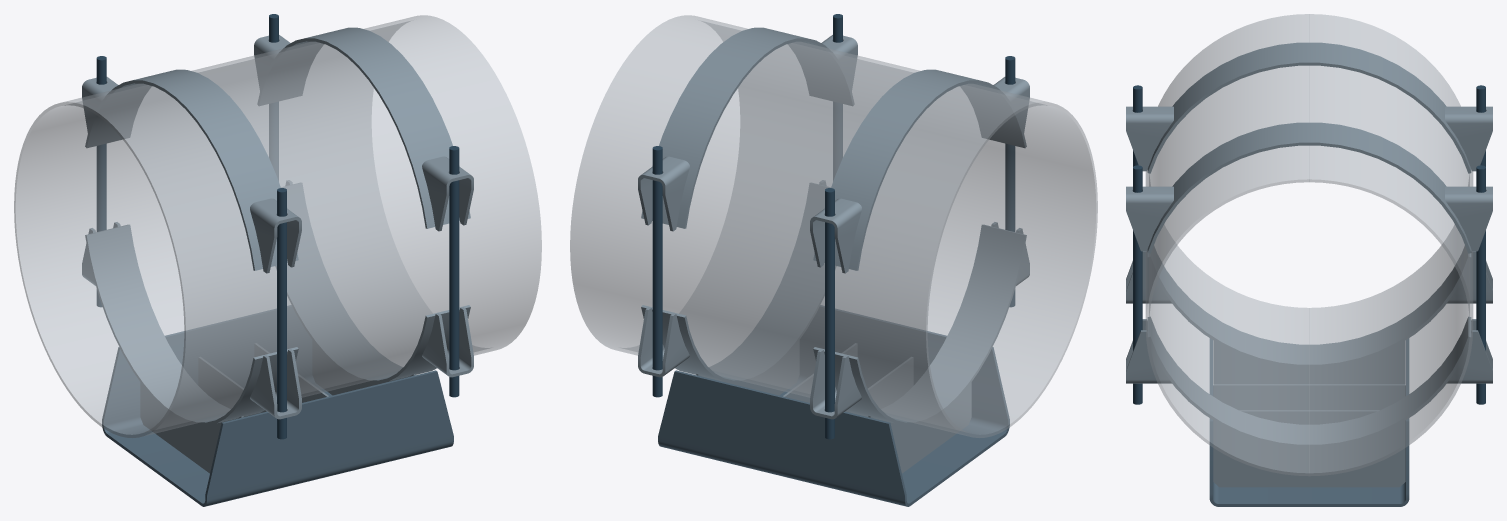
File: TS-627.00.000-067-opora-dn820-H150-L680.glb
The picture shows the model from 3 angles, left to right: view 1: azimuth 30°, elevation 25°; view 2: azimuth 150°, elevation 25°; view 3: azimuth 270°, elevation 25°; orthographic projection. The views are drawn at different scales.
Parts seen in each view (by area): view 1: truba, skoba_0, podushka_5, bugel1_podushka_0, bugel0_podushka_0, podushka_6, rebro4_1, shpilka_1_-1, shpilka_0_-1, bugel1_ushko_2, bugel0_ushko_2, ushko_10 (+7 smaller); view 2: truba, skoba_0, podushka_5, bugel1_podushka_0, bugel0_podushka_0, podushka_6, rebro4_1, shpilka_1_1, shpilka_0_1, bugel1_ushko_1, bugel0_ushko_1, ushko_9 (+7 smaller); view 3: truba, rebro4_2, podushka_6, podushka_5, bugel0_podushka_0, bugel1_podushka_0, skoba_0, rebro4_1, rebro5_3, bugel1_ushko_1, bugel1_ushko_2, bugel0_ushko_1 (+8 smaller).
Part boxes in pixels (<box>): truba: <box>14,15,541,437</box>; skoba_0: <box>102,305,453,506</box>; podushka_5: <box>85,224,298,425</box>; bugel1_podushka_0: <box>258,27,470,228</box>; bugel0_podushka_0: <box>85,69,298,270</box>; podushka_6: <box>275,183,470,383</box>; rebro4_1: <box>140,382,243,473</box>; shpilka_1_-1: <box>449,146,459,397</box>; shpilka_0_-1: <box>277,188,286,439</box>; bugel1_ushko_2: <box>422,156,473,231</box>; bugel0_ushko_2: <box>250,198,301,273</box>; ushko_10: <box>422,307,473,377</box>; truba: <box>570,15,1097,437</box>; skoba_0: <box>658,305,1009,506</box>; podushka_5: <box>813,224,1026,425</box>; bugel1_podushka_0: <box>641,27,853,228</box>; bugel0_podushka_0: <box>813,69,1026,270</box>; podushka_6: <box>641,183,836,383</box>; rebro4_1: <box>868,382,971,473</box>; shpilka_1_1: <box>652,146,662,397</box>; shpilka_0_1: <box>825,188,834,439</box>; bugel1_ushko_1: <box>638,156,689,231</box>; bugel0_ushko_1: <box>810,198,861,273</box>; ushko_9: <box>638,307,689,377</box>; truba: <box>1145,14,1473,476</box>; rebro4_2: <box>1213,420,1405,487</box>; podushka_6: <box>1147,316,1471,447</box>; podushka_5: <box>1147,247,1471,367</box>; bugel0_podushka_0: <box>1147,42,1471,173</box>; bugel1_podushka_0: <box>1147,122,1471,253</box>; skoba_0: <box>1209,338,1409,506</box>; rebro4_1: <box>1213,340,1405,384</box>; rebro5_3: <box>1213,384,1405,410</box>; bugel1_ushko_1: <box>1445,186,1492,251</box>; bugel1_ushko_2: <box>1126,186,1173,251</box>; bugel0_ushko_1: <box>1445,106,1492,171</box>.
Size of the model in its own units: 980 by 986 by 918.
